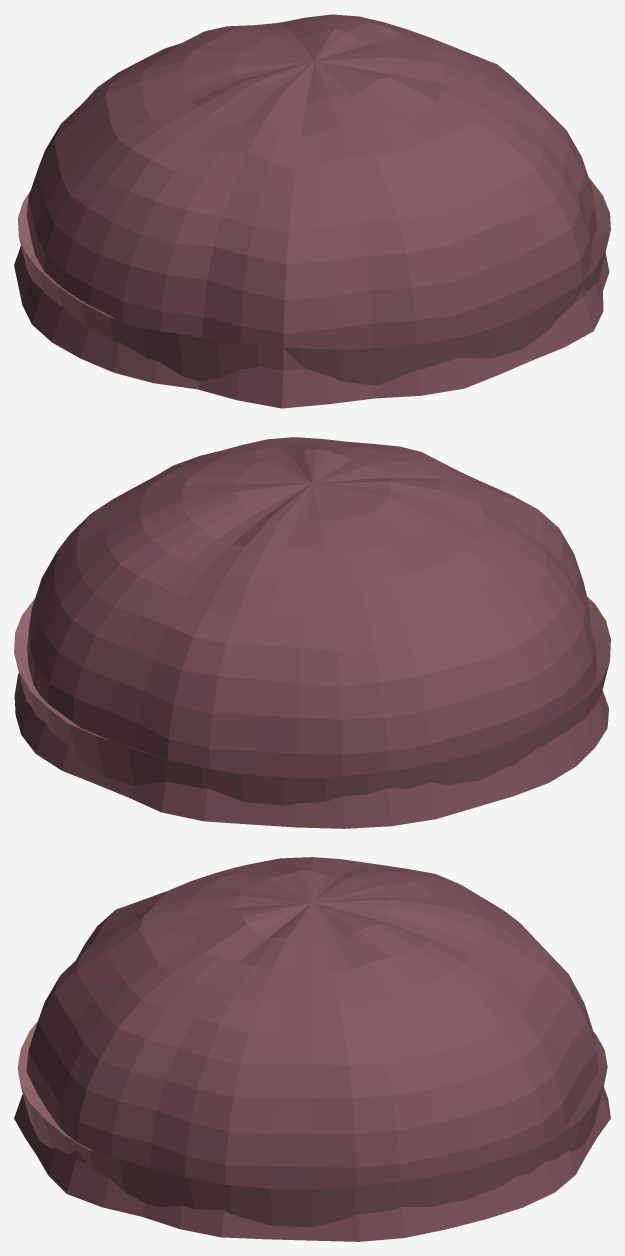
Rendered from arena_kraken_gullet.glb.
3 renders of one model, top to bottom at view 1: azimuth 30°, elevation 25°; view 2: azimuth 150°, elevation 25°; view 3: azimuth 270°, elevation 25°, orthographic.
Visible parts, largest first — view 1: KrakenGullet_Walls, KrakenGullet_Base; view 2: KrakenGullet_Walls, KrakenGullet_Base; view 3: KrakenGullet_Walls, KrakenGullet_Base.
Boxes of the visible parts, <box> form: KrakenGullet_Walls: <box>14,14,609,408</box>; KrakenGullet_Base: <box>18,178,610,385</box>; KrakenGullet_Walls: <box>14,437,608,828</box>; KrakenGullet_Base: <box>14,596,610,805</box>; KrakenGullet_Walls: <box>14,857,610,1241</box>; KrakenGullet_Base: <box>17,1021,607,1226</box>.
Bounding box in the file's own units: 267 × 107 × 267.
